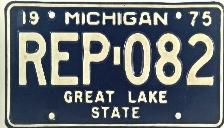0: (121, 31, 152, 88)
2: (183, 32, 218, 89)
8: (153, 31, 184, 87)
E: (50, 31, 80, 87)
P: (80, 30, 111, 88)
R: (16, 30, 49, 88)
